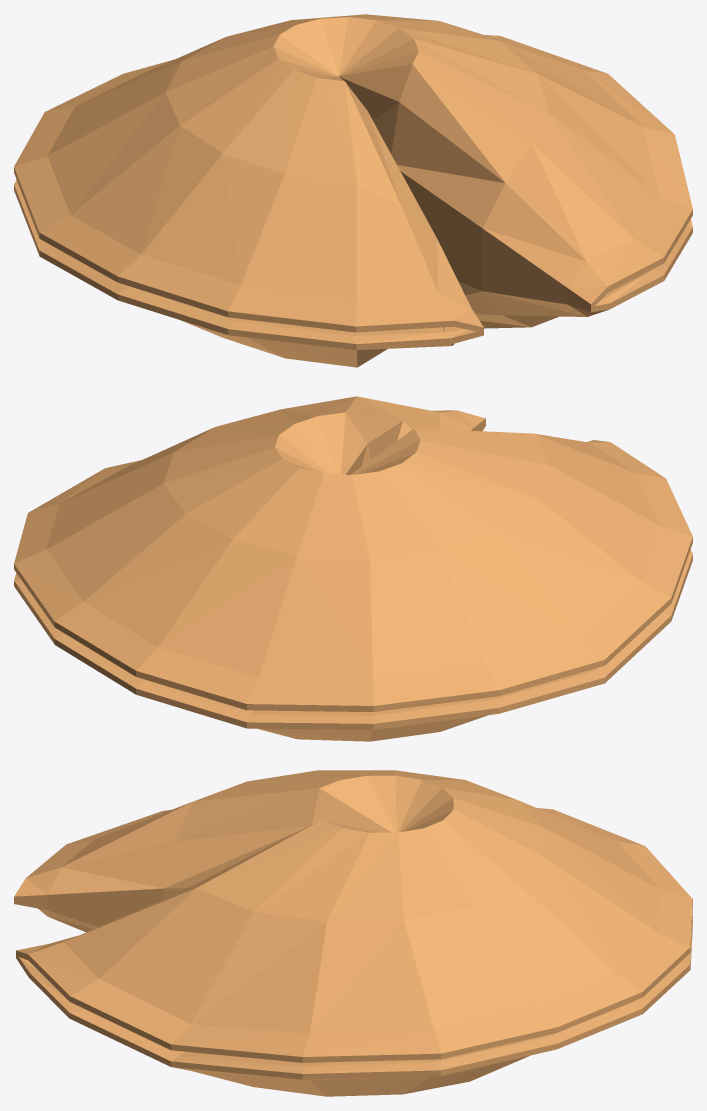
File: 8diHwxl9PEK.glb
3 renders of one model, top to bottom at view 1: azimuth 30°, elevation 25°; view 2: azimuth 150°, elevation 25°; view 3: azimuth 270°, elevation 25°, orthographic. The views are drawn at different scales.
Parts seen in each view (by area): view 1: Fortune_Cookie; view 2: Fortune_Cookie; view 3: Fortune_Cookie.
Boxes of the visible parts, x1,y1,x2,y2 form: Fortune_Cookie: (14,14,692,367); Fortune_Cookie: (14,396,692,741); Fortune_Cookie: (14,770,692,1096).
Bounding box in the file's own units: 2.26 × 0.9999 × 2.42.
